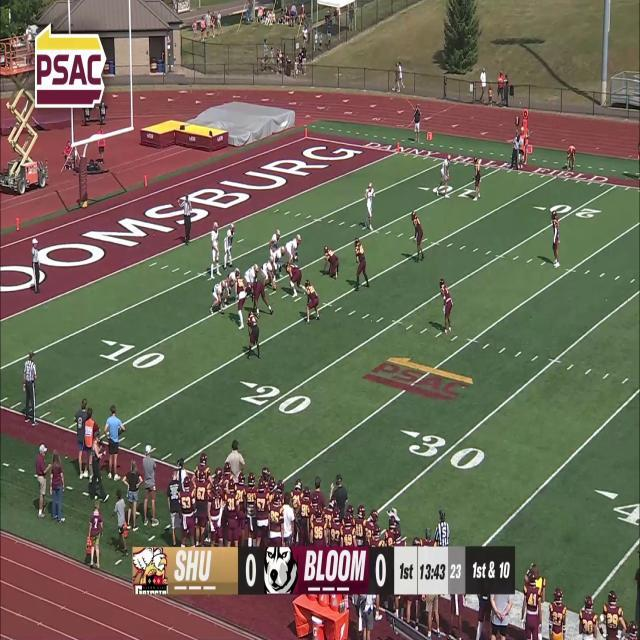football: (272, 284, 278, 291)
